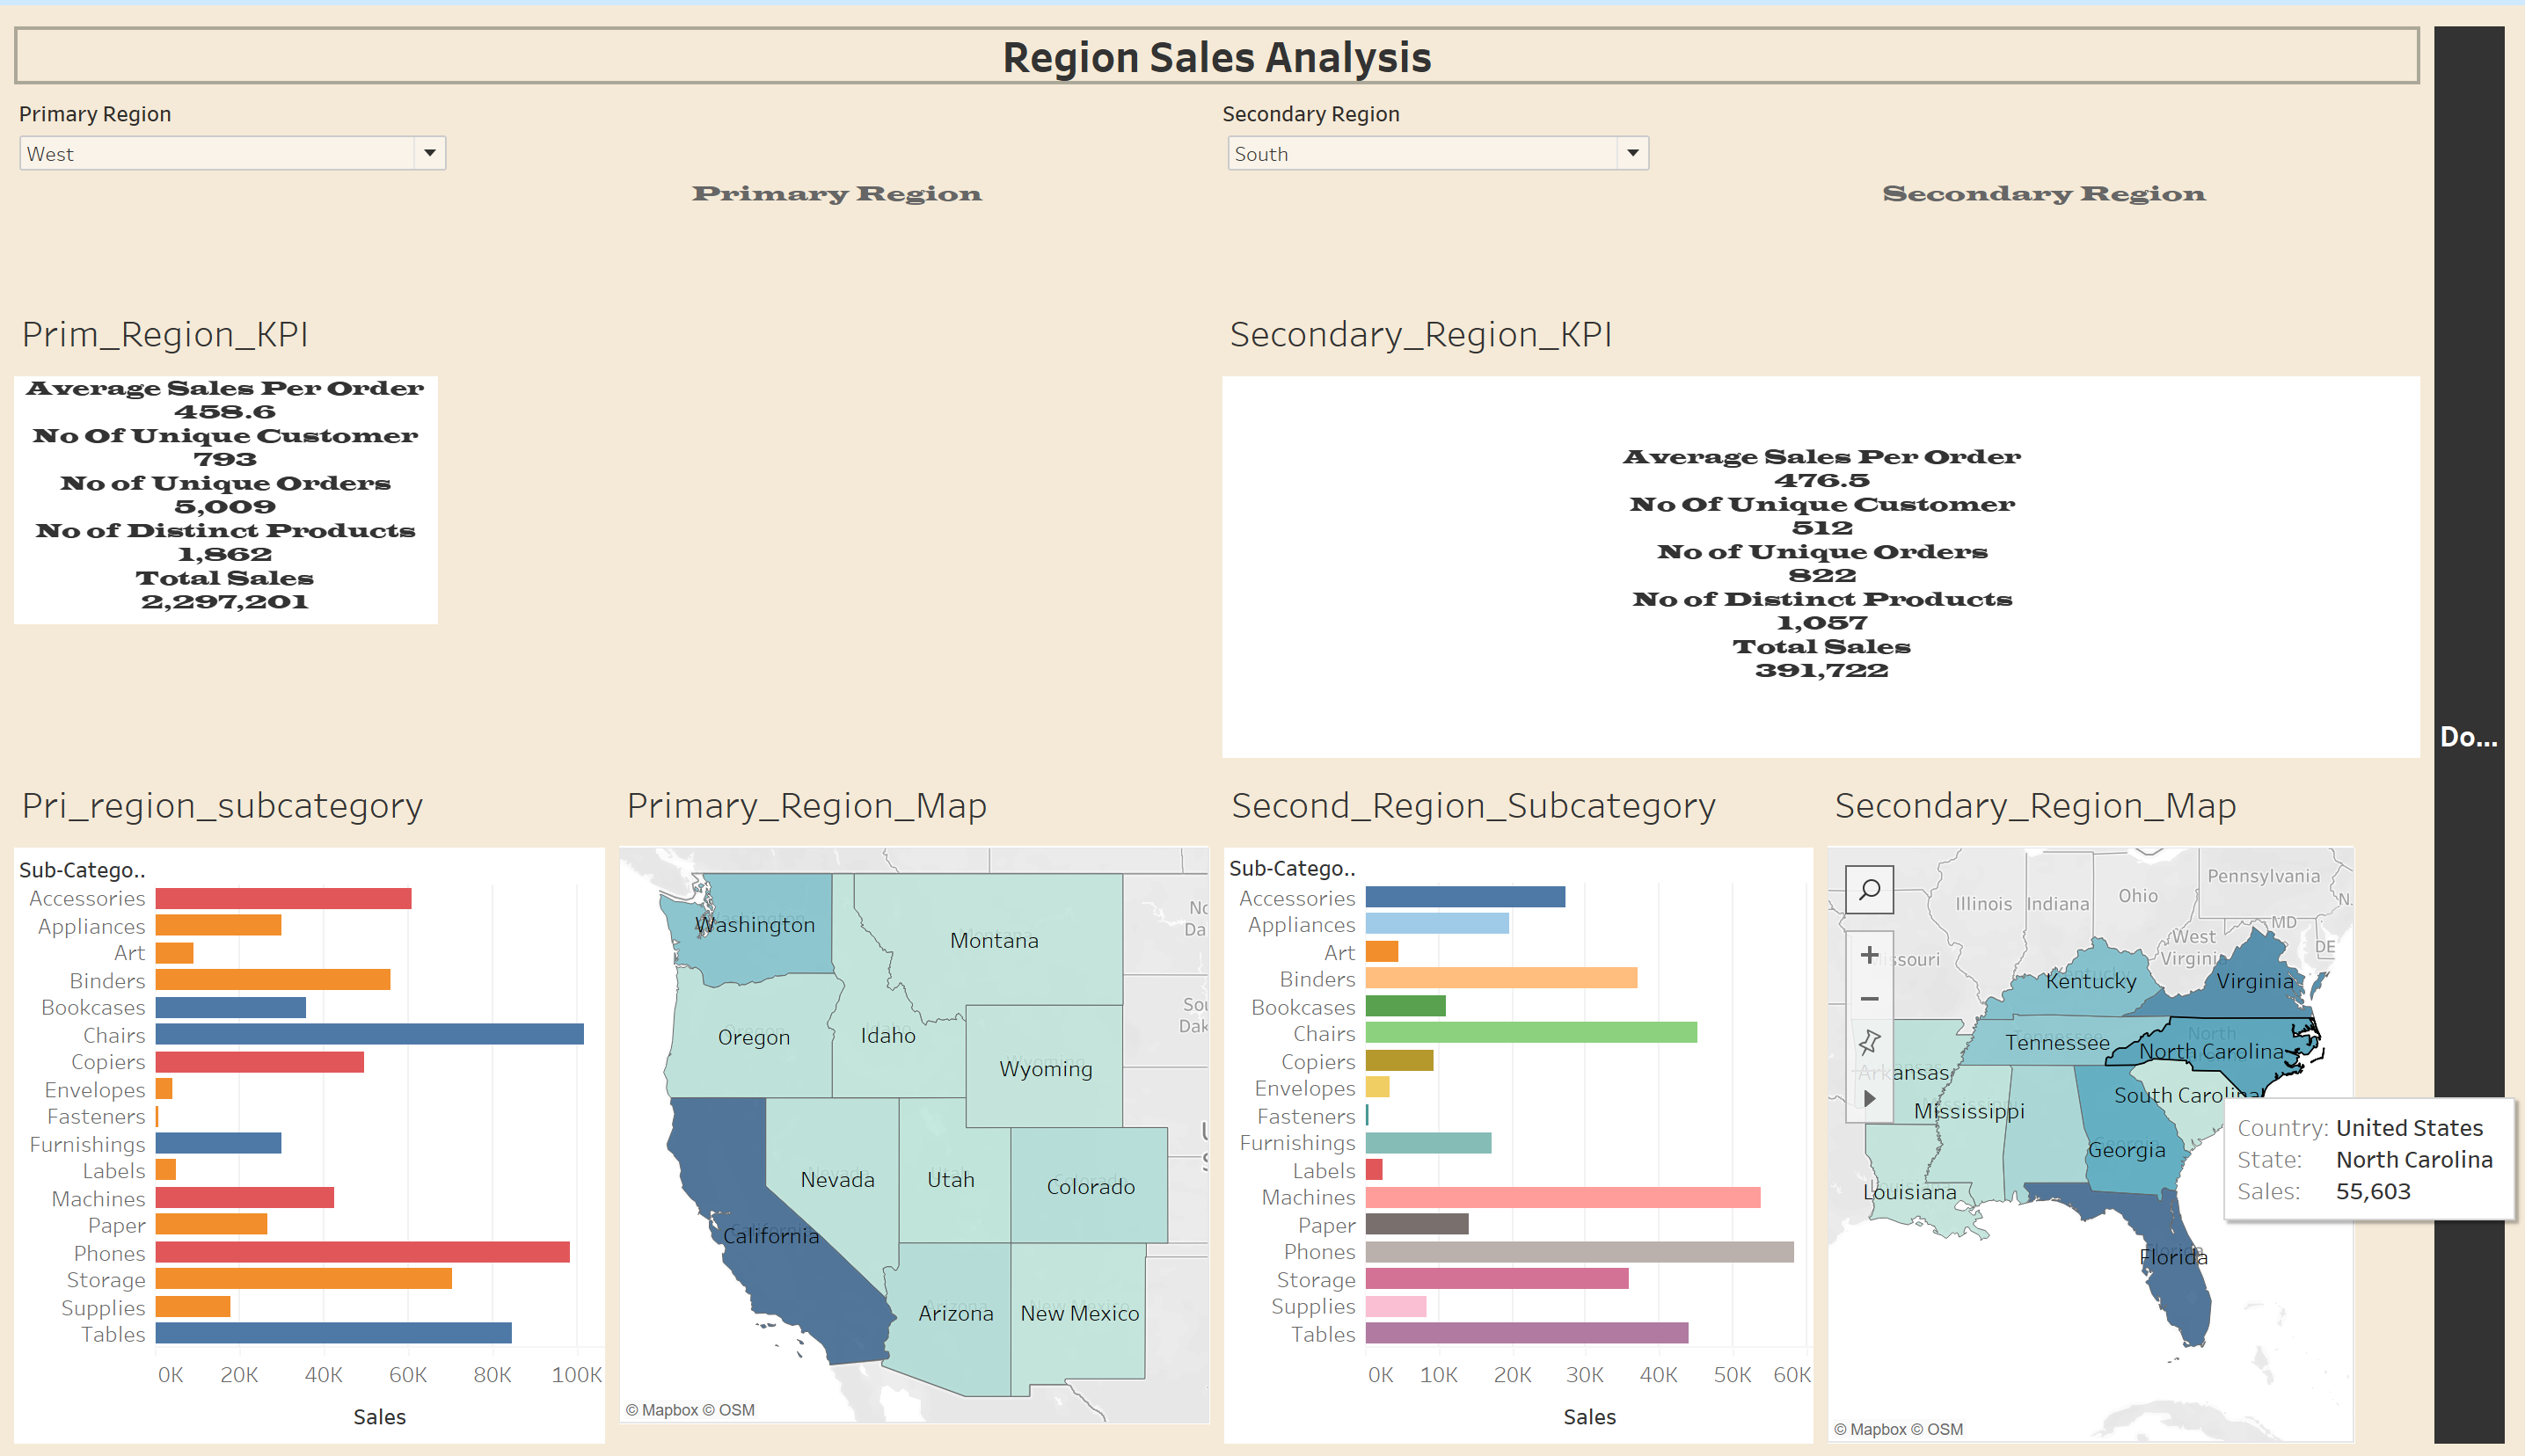

Layout of this report page (visuals, bound fields, positions):
{"tool":"tableau","page":{"name":"Dashboard 1","canvas":[1000,1000],"units":"permille","ordinal":0},"visuals":[{"type":"title","box":[6.7,12.9,953.3,65.9]},{"type":"dashboard-object","box":[960,12.9,33.3,974.3]},{"type":"parameter","param":"[Parameters].[Parameter 1]","box":[6.7,78.8,178.3,134.7]},{"type":"text","box":[184.9,78.8,297.8,134.7]},{"type":"parameter","param":"[Parameters].[Parameter 2]","box":[482.7,78.8,176.1,134.7]},{"type":"text","box":[658.9,78.8,301.1,134.7]},{"type":"worksheet","title":"Prim_Region_KPI","mark":"Automatic","box":[6.7,213.5,476.1,315.4]},{"type":"worksheet","title":"Secondary_Region_KPI","mark":"Automatic","box":[482.8,213.5,477.2,315.4]},{"type":"worksheet","title":"Pri_region_subcategory","mark":"Automatic","rows":["Sub-Category"],"cols":["Sales"],"box":[6.7,528.9,238.2,458.2]},{"type":"worksheet","title":"Primary_Region_Map","mark":"Automatic","box":[244.9,528.9,238.3,458.2]},{"type":"worksheet","title":"Second_Region_Subcategory","mark":"Automatic","rows":["Sub-Category"],"cols":["Sales"],"box":[483.2,528.9,238.3,458.2]},{"type":"worksheet","title":"Secondary_Region_Map","mark":"Automatic","box":[721.5,528.9,213.2,458.2]},{"type":"blank","box":[934.7,528.9,25.3,458.2]}]}

Visuals, with their boxes on the dashboard's canvas, which has no fixed pixel size, in thousandths of its width and height (x1, y1, x2, y2). These are canvas units, not pixel positions in the 2525x1456 screenshot, which may show the page scaled, cropped or inside an application window:
title: detection(7, 13, 960, 79)
dashboard-object: detection(960, 13, 993, 987)
parameter: detection(7, 79, 185, 214)
text: detection(185, 79, 483, 214)
parameter: detection(483, 79, 659, 214)
text: detection(659, 79, 960, 214)
"Prim_Region_KPI" worksheet: detection(7, 214, 483, 529)
"Secondary_Region_KPI" worksheet: detection(483, 214, 960, 529)
"Pri_region_subcategory" worksheet: detection(7, 529, 245, 987)
"Primary_Region_Map" worksheet: detection(245, 529, 483, 987)
"Second_Region_Subcategory" worksheet: detection(483, 529, 722, 987)
"Secondary_Region_Map" worksheet: detection(722, 529, 935, 987)
blank: detection(935, 529, 960, 987)
